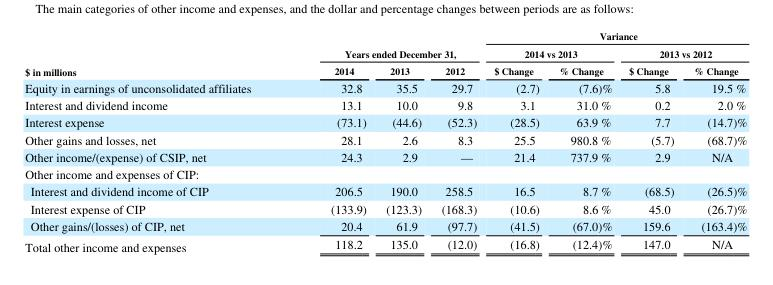table: (24, 28, 746, 254)
table column: (24, 28, 290, 254), (290, 28, 375, 254), (548, 28, 619, 254), (484, 28, 548, 254), (619, 28, 683, 254), (683, 28, 746, 254), (375, 28, 430, 254), (430, 28, 484, 254)
table column header: (24, 28, 746, 78)
table projected row header: (24, 164, 746, 181)
table row: (24, 234, 746, 254), (24, 44, 746, 62), (24, 95, 746, 113), (24, 181, 746, 199), (24, 216, 746, 234), (24, 78, 746, 95), (24, 113, 746, 130), (24, 130, 746, 147), (24, 147, 746, 164), (24, 164, 746, 181), (24, 199, 746, 216), (24, 28, 746, 44), (24, 62, 746, 78)
table spanning cell: (24, 28, 290, 78), (290, 28, 484, 62), (484, 28, 746, 44), (484, 44, 619, 62), (619, 44, 746, 62)
